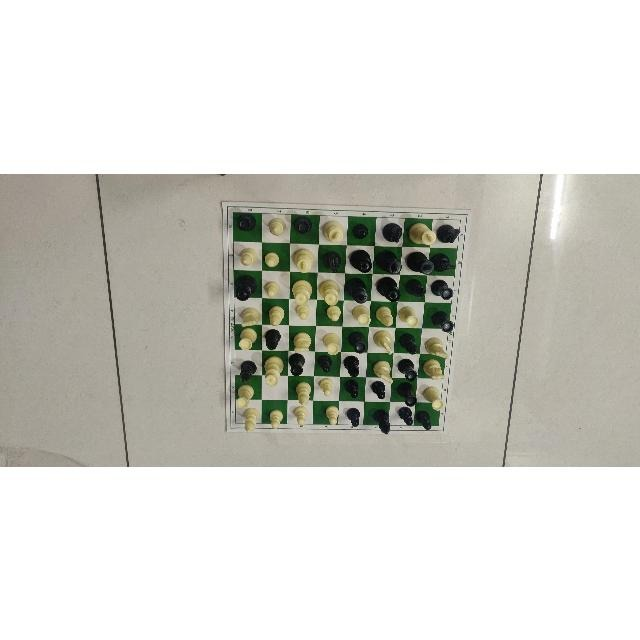black-bishop: (341, 353, 363, 377), (372, 409, 392, 435), (236, 356, 256, 382), (405, 279, 427, 301), (262, 328, 284, 350), (399, 331, 419, 354)
black-king: (404, 250, 434, 278), (344, 276, 369, 302), (376, 249, 402, 273)
black-knight: (378, 217, 403, 244), (436, 219, 462, 242), (431, 250, 457, 273), (319, 247, 341, 272)
black-pawn: (349, 218, 372, 244), (414, 407, 434, 430), (346, 405, 364, 429), (341, 379, 362, 399), (394, 406, 414, 427), (313, 356, 335, 372), (368, 380, 386, 399)
black-queen: (231, 274, 258, 300), (373, 275, 400, 301), (346, 247, 372, 273)
black-rook: (428, 307, 457, 334), (429, 277, 456, 301), (397, 380, 421, 405), (232, 211, 257, 233), (346, 328, 367, 354), (397, 357, 419, 381), (291, 214, 314, 236), (287, 353, 307, 375)
white-bishop: (237, 408, 261, 434), (233, 241, 257, 266), (265, 215, 288, 239), (293, 378, 314, 404), (263, 302, 286, 325), (373, 305, 395, 327)
white-king: (407, 219, 437, 246), (290, 245, 315, 273), (321, 216, 344, 241)
white-knight: (368, 355, 393, 382), (370, 328, 393, 354), (234, 303, 259, 326), (425, 337, 453, 357), (423, 358, 446, 382), (290, 329, 312, 353)
white-pawn: (265, 404, 286, 428), (291, 405, 311, 428), (321, 307, 344, 323), (322, 406, 340, 426), (317, 376, 335, 396), (263, 247, 281, 267), (292, 304, 312, 321), (264, 279, 280, 296)
white-queen: (264, 355, 284, 389), (317, 278, 341, 304), (290, 278, 313, 303)
white-rook: (419, 385, 446, 410), (320, 329, 344, 354), (232, 382, 255, 407), (348, 303, 372, 326), (397, 304, 420, 327), (237, 328, 257, 350)
